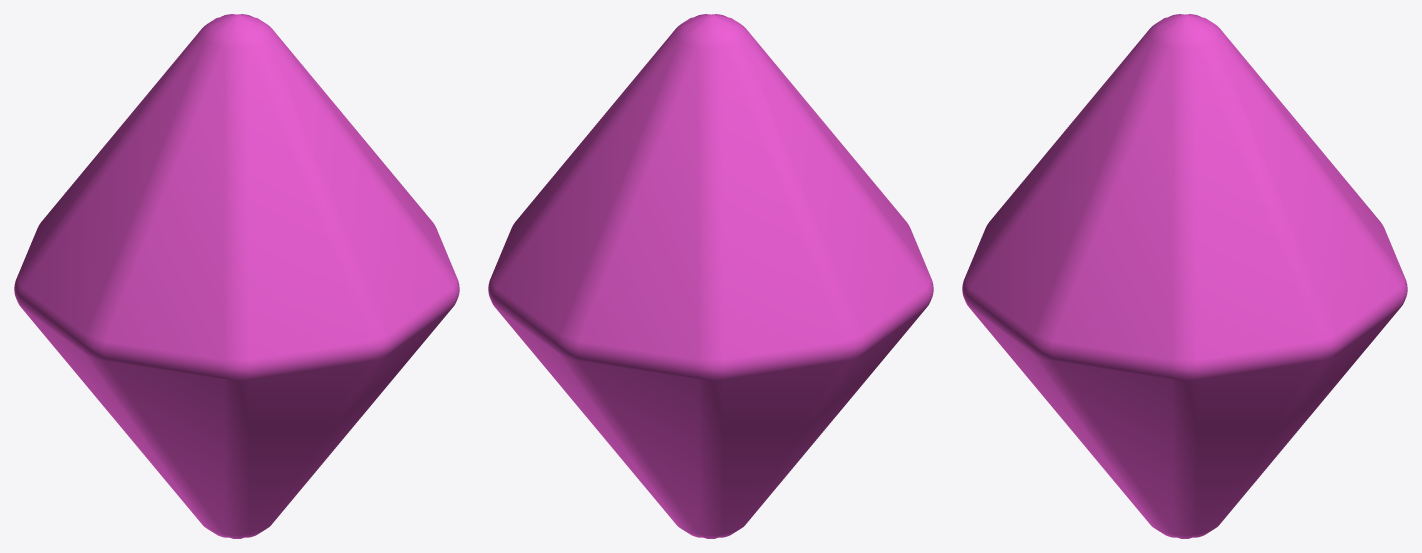
File: elmas.fbx
The picture shows the model from 3 angles, left to right: view 1: azimuth 30°, elevation 25°; view 2: azimuth 150°, elevation 25°; view 3: azimuth 270°, elevation 25°; orthographic projection.
Parts seen in each view (by area): view 1: elmas; view 2: elmas; view 3: elmas.
Part boxes in pixels (x1,y1,x2,y2): elmas: (14, 14, 459, 538); elmas: (488, 14, 933, 538); elmas: (962, 14, 1407, 538).
Bounding box in the file's own units: 128 × 167 × 129.
